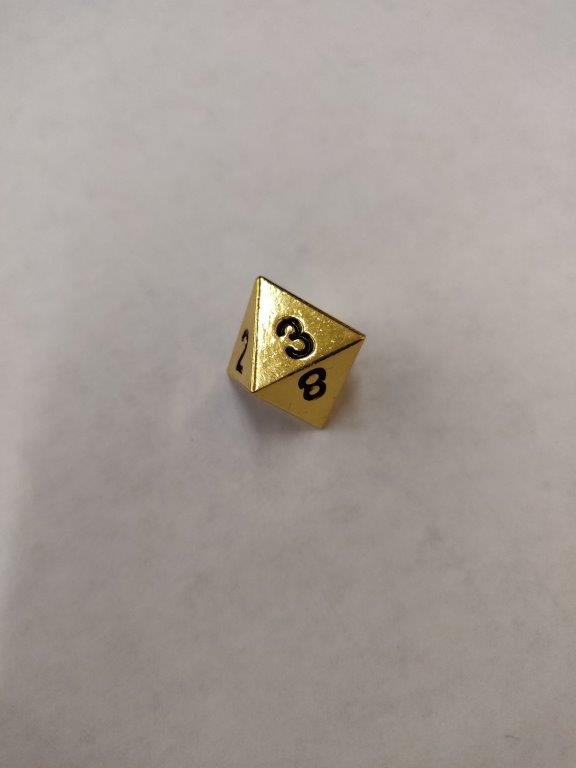d8-3: (223, 276, 363, 432)
